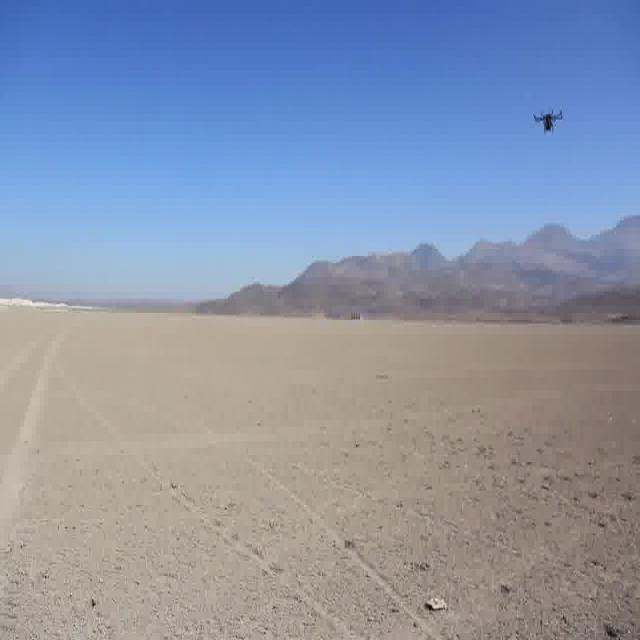Drone_FW: (533, 106, 563, 134)
